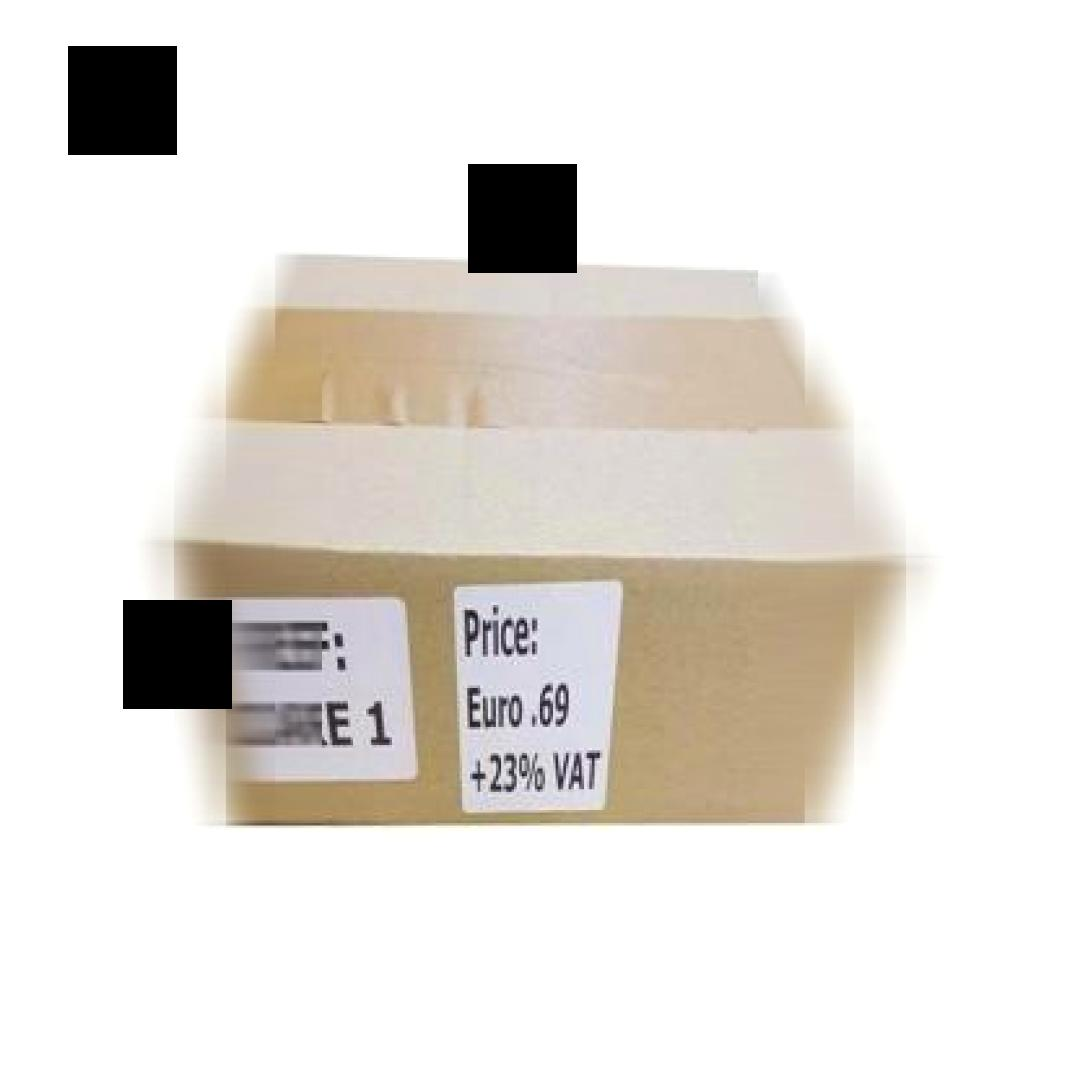package: (172, 252, 906, 838)
